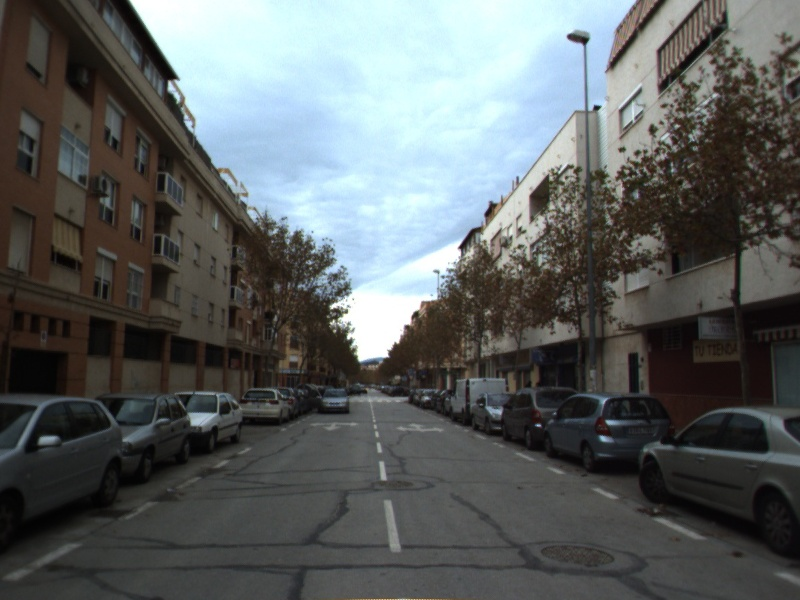STRAIGHT_LEFT_RIGHT: (394, 420, 446, 434)
